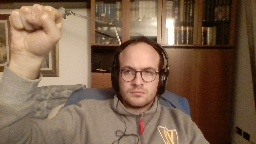Pugno: (5, 2, 64, 58)
